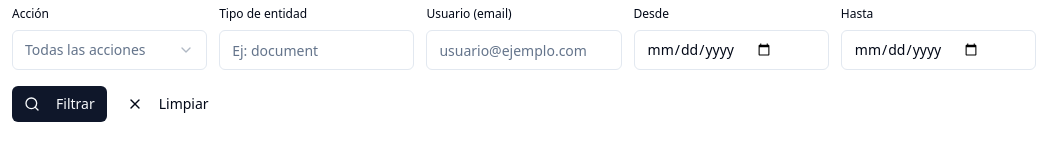
Test: AuditLogFilters — clear button › clicking "Limpiar" clears the user email input value
Type "test@test.com" into the field with placeholder "usuario@ejemplo.com" at point(524, 50), box top-left (426, 30), bottom-right (622, 70)
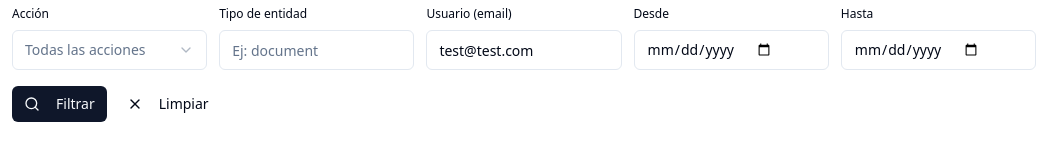
Click the button "Limpiar" at point(168, 104), box top-left (115, 86), bottom-right (221, 122)
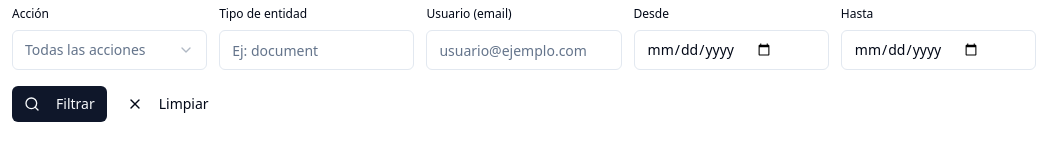
Result: the field with placeholder "usuario@ejemplo.com" is empty at top-left (426, 30), bottom-right (622, 70)
